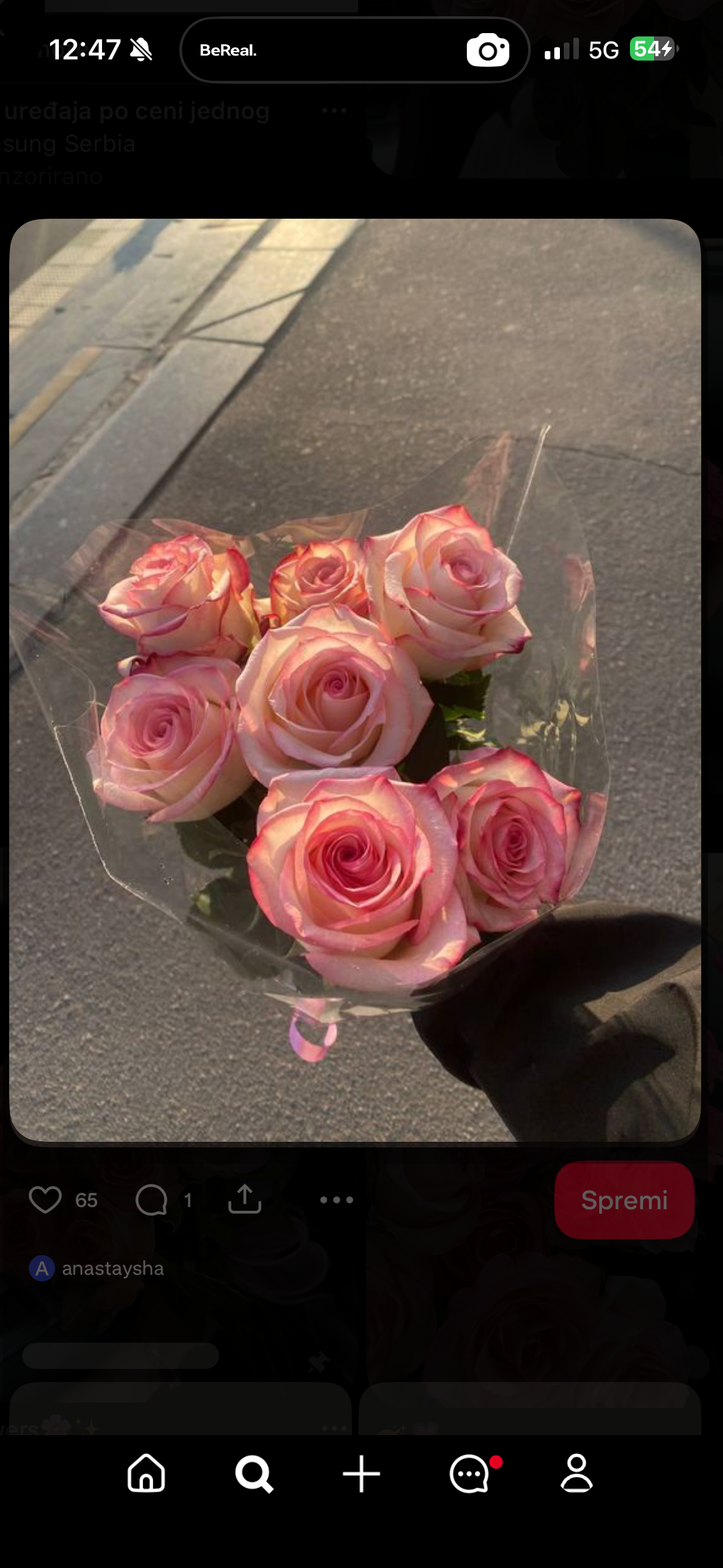rose: (245, 765, 469, 990), (236, 604, 433, 790), (440, 743, 587, 934), (379, 502, 534, 661), (87, 663, 240, 824), (96, 529, 252, 659), (263, 535, 374, 629)
